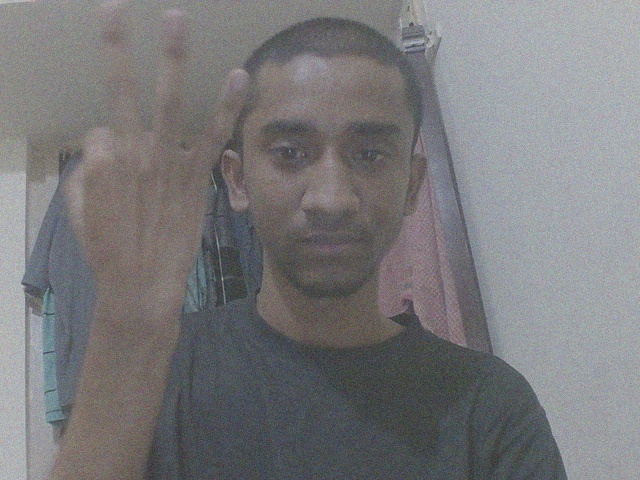hand: (65, 2, 251, 318)
